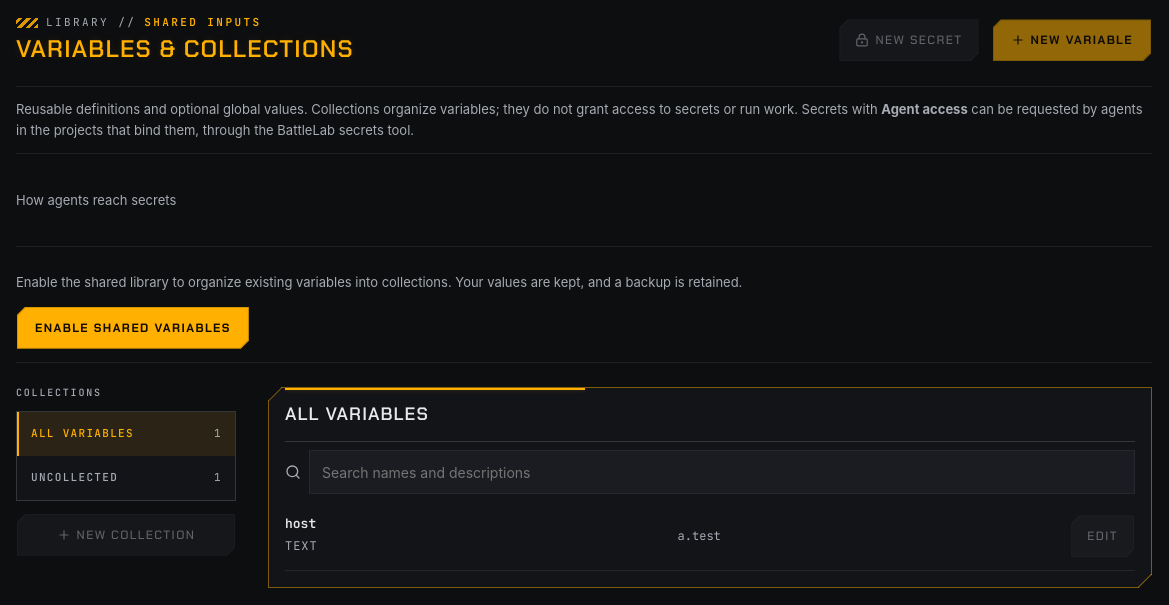
Test: GET stays read-only and migration must be explicitly enabled
The image size is (1169, 605).
Expected: the button with aria-label "Edit host" is disabled, [1070, 514, 1135, 558]
Click the button "Enable shared variables": click(133, 328) [16, 306, 250, 350]
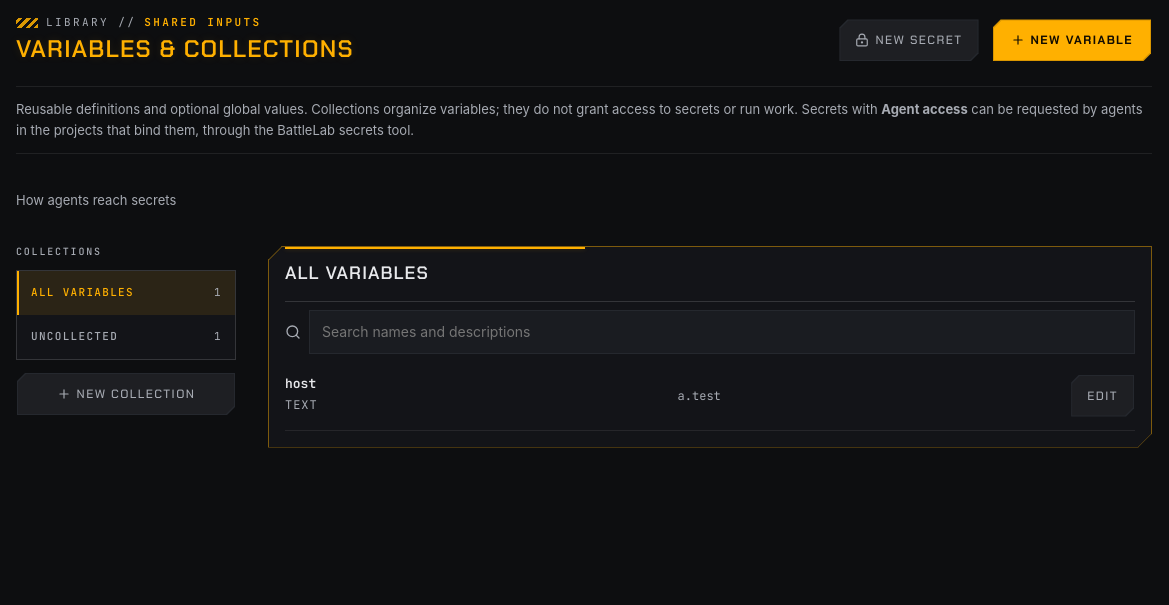
Now the button with aria-label "Edit host" is enabled, box [1070, 374, 1135, 418]
